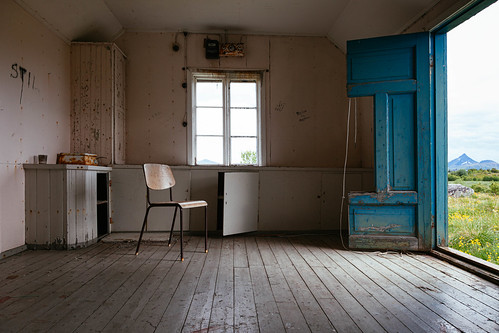chair: (128, 158, 210, 264)
door: (339, 20, 454, 255)
mountain: (453, 143, 499, 175)
window: (188, 69, 261, 162)
